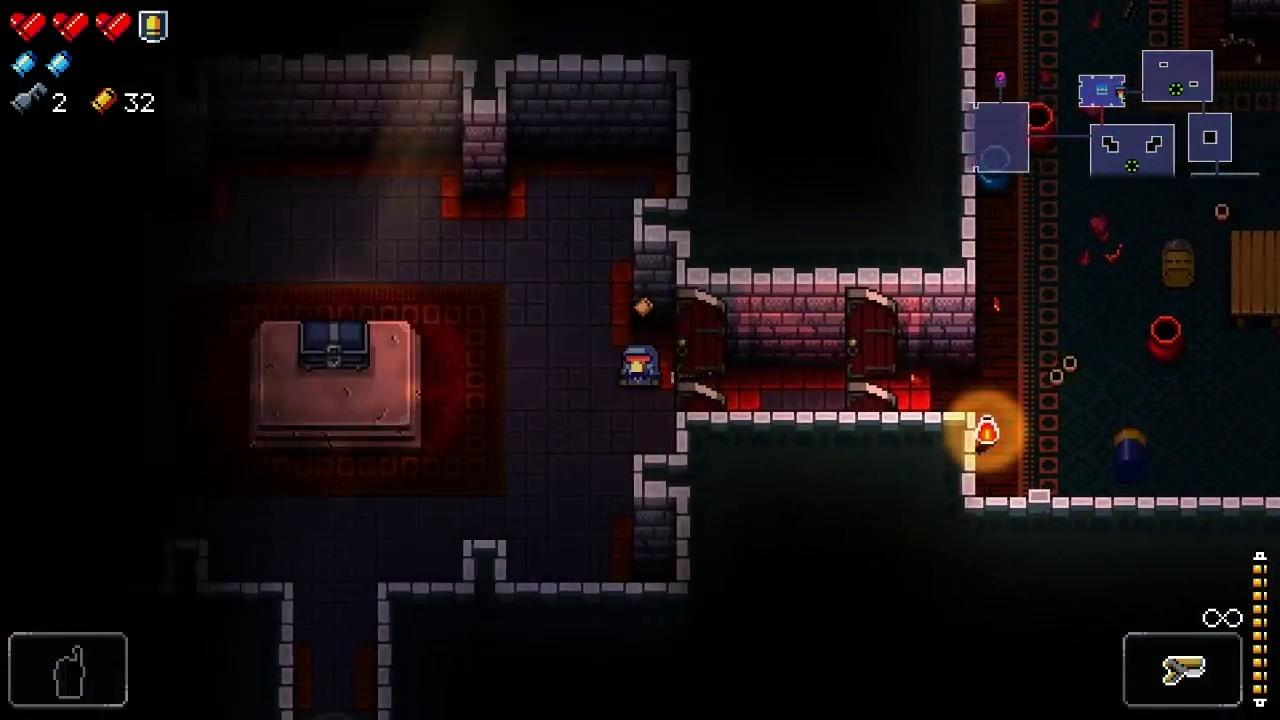blue_chest: (296, 319, 371, 372)
player: (619, 346, 664, 388)
unlocked_door: (845, 288, 897, 412), (675, 289, 725, 411)
